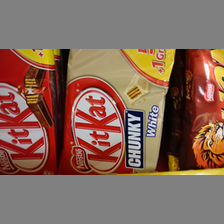chocolate: (61, 49, 173, 174), (1, 49, 58, 176), (178, 49, 224, 170)
